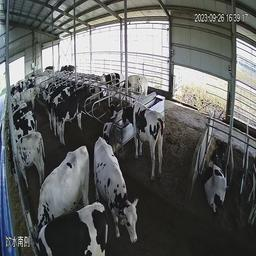cow: (97, 137, 146, 255), (33, 144, 91, 236), (34, 199, 109, 255), (120, 99, 166, 183), (55, 83, 91, 146), (11, 131, 46, 194), (202, 133, 228, 215), (7, 111, 38, 162), (118, 75, 150, 106), (103, 101, 119, 146), (99, 71, 124, 97), (33, 73, 54, 100), (20, 86, 42, 111), (60, 63, 75, 81)
